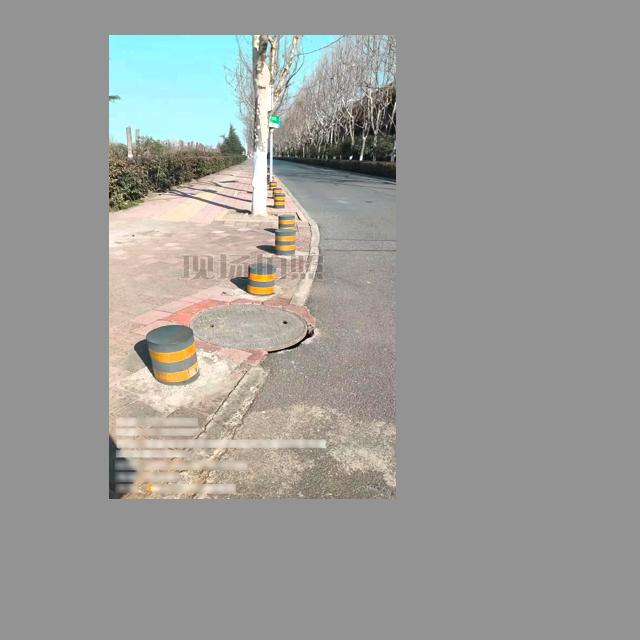circle: (187, 300, 317, 357)
